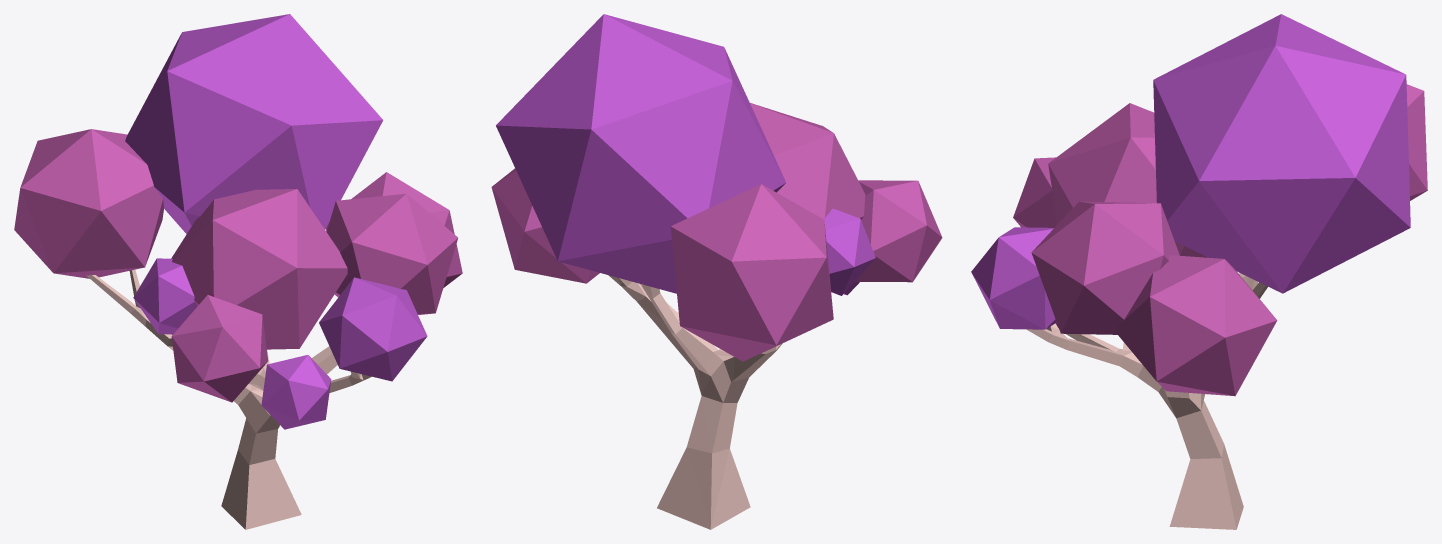
Rendered from cherry_tree_2.fbx.
3 views of the same model, side by side, from view 1: azimuth 30°, elevation 25°; view 2: azimuth 150°, elevation 25°; view 3: azimuth 270°, elevation 25° (orthographic). The views are drawn at different scales.
Parts seen in each view (by area): view 1: Icosphere.003, Icosphere.008, Icosphere.001, Icosphere, wood, Icosphere.005, Icosphere.002, Icosphere.007, Icosphere.006, Icosphere.004; view 2: Icosphere.003, Icosphere.001, wood, Icosphere.008, Icosphere.002, Icosphere.004, Icosphere.006; view 3: Icosphere.003, Icosphere.004, Icosphere, wood, Icosphere.008, Icosphere.005, Icosphere.002, Icosphere.001.
Boxes of the visible parts, <box> form: Icosphere.003: <box>125,14,383,233</box>; Icosphere.008: <box>171,189,347,349</box>; Icosphere.001: <box>14,129,163,278</box>; Icosphere: <box>326,193,457,314</box>; wood: <box>86,269,371,529</box>; Icosphere.005: <box>319,277,427,381</box>; Icosphere.002: <box>171,295,268,402</box>; Icosphere.007: <box>261,355,331,429</box>; Icosphere.006: <box>133,258,197,334</box>; Icosphere.004: <box>326,172,462,287</box>; Icosphere.003: <box>496,14,785,293</box>; Icosphere.001: <box>670,184,833,361</box>; wood: <box>608,275,782,529</box>; Icosphere.008: <box>750,103,865,219</box>; Icosphere.002: <box>855,180,942,282</box>; Icosphere.004: <box>491,168,599,283</box>; Icosphere.006: <box>823,208,875,295</box>; Icosphere.003: <box>1153,14,1410,293</box>; Icosphere.004: <box>1115,255,1277,396</box>; Icosphere: <box>1031,201,1179,334</box>; wood: <box>1026,273,1267,529</box>; Icosphere.008: <box>1048,103,1207,257</box>; Icosphere.005: <box>971,227,1056,329</box>; Icosphere.002: <box>1013,157,1057,227</box>; Icosphere.001: <box>1406,84,1427,200</box>.
Bounding box in the file's own units: 464 × 465 × 567.
